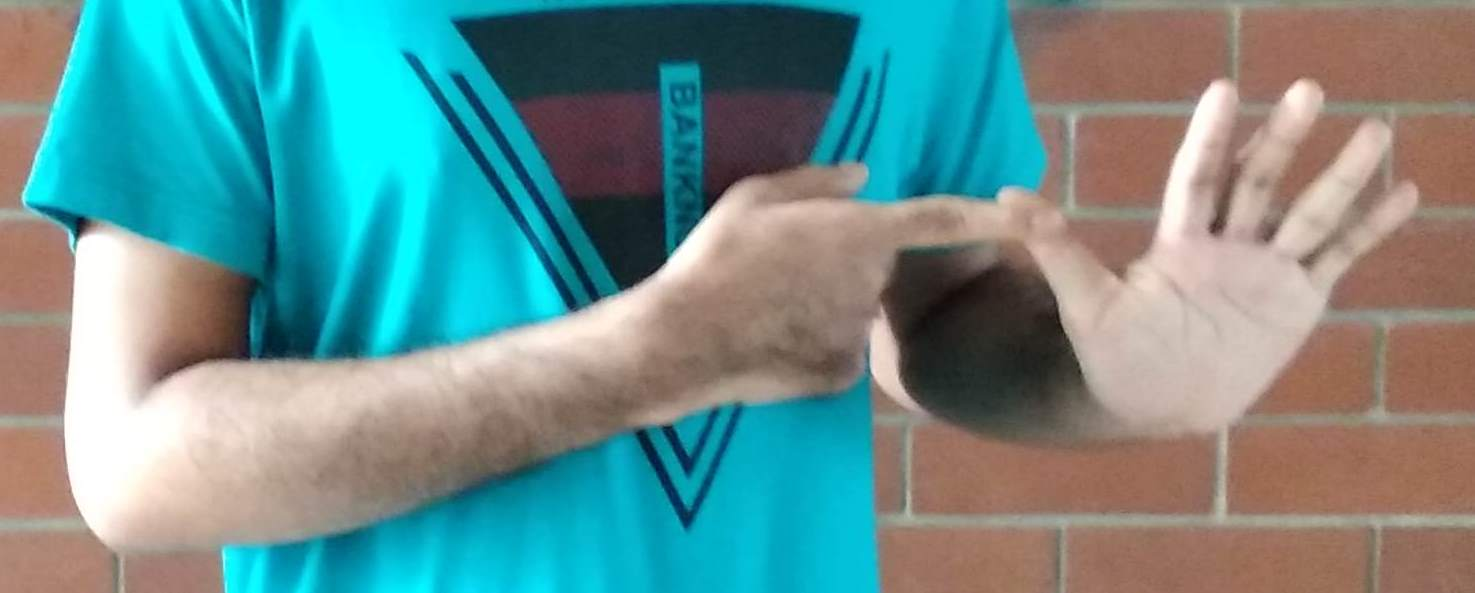a: (747, 81, 1415, 475)
